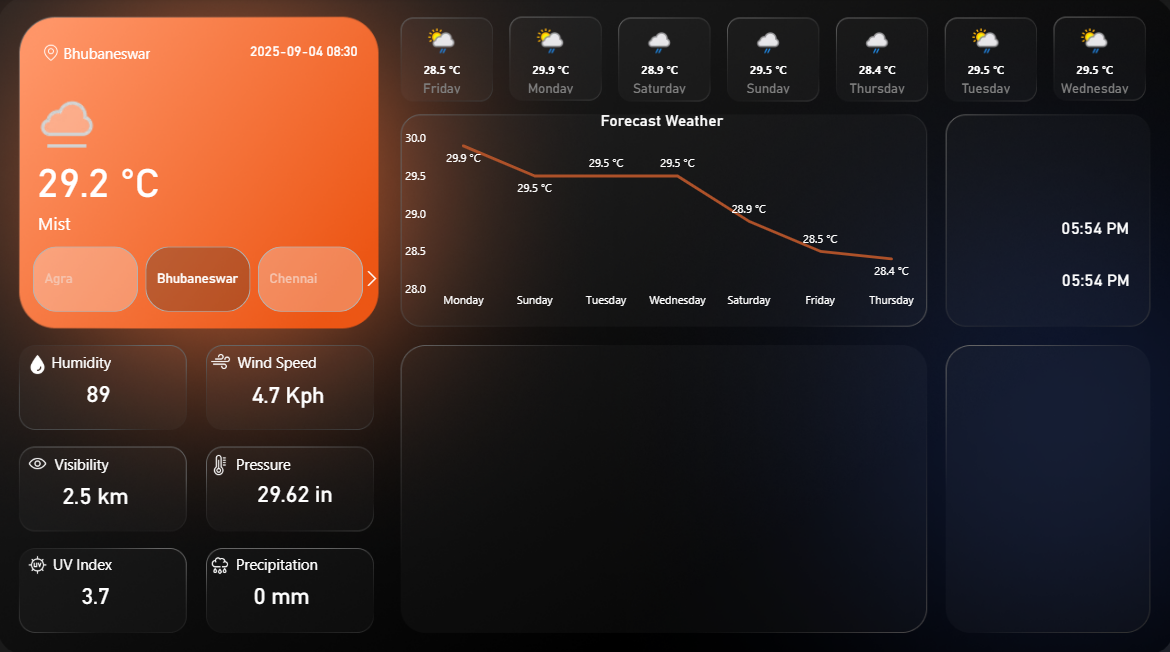

The page's visual inventory and layout, read from the dashboard file:
{"tool":"powerbi","page":{"name":"Page 1","canvas":[1280,720],"ordinal":0},"visuals":[{"type":"advancedSlicerVisual","fields":{"Values":["Locations.location.name"]},"box":[14.6,265.1,408.3,81.3],"z":0},{"type":"shape","box":[45.5,231,170,29.3],"z":1000},{"type":"shape","box":[73.2,45.5,146.4,29.3],"z":2000},{"type":"image","box":[45.5,39,27.7,42.3],"z":3000},{"type":"cardVisual","fields":{"Data":["Min(Current.current.condition.icon)"]},"box":[19.5,74.8,107.4,99.2],"z":4000},{"type":"shape","box":[60.2,380.6,188.7,29.3],"z":5000},{"type":"shape","box":[261.9,380.6,188.7,29.3],"z":6000},{"type":"shape","box":[261,492,188.7,29.3],"z":7000},{"type":"shape","box":[63.4,484.7,183.8,42.3],"z":8000},{"type":"shape","box":[61.8,600,188.7,29.3],"z":9000},{"type":"shape","box":[261,600,188.7,29.3],"z":10000},{"type":"image","box":[26,382.2,37.4,32.5],"z":11000},{"type":"image","box":[224.5,379,37.4,32.5],"z":12000},{"type":"image","box":[26,489.6,37.4,32.5],"z":13000},{"type":"image","box":[26,600,37.4,30.9],"z":14000},{"type":"image","box":[224,492,37,32],"z":15000},{"type":"image","box":[224,600,37,32],"z":16000},{"type":"card","fields":{"Values":["_Measures.windspeed"]},"box":[261.9,382.2,109,97.6],"z":17000},{"type":"card","fields":{"Values":["_Measures.pressure"]},"box":[261.9,489.6,123.6,97.6],"z":18000},{"type":"card","fields":{"Values":["_Measures.vis"]},"box":[60.2,491.2,94.3,97.6],"z":19000},{"type":"card","fields":{"Values":["Min(Current.current.uv)"]},"box":[60.2,600.2,94.3,97.6],"z":20000},{"type":"card","fields":{"Values":["_Measures.precip"]},"box":[261.9,600.2,94.3,97.6],"z":21000},{"type":"card","fields":{"Values":["Min(Current.current.humidity)"]},"box":[63.4,380.6,94.3,97.6],"z":22000},{"type":"advancedSlicerVisual","fields":{"Values":["Forecast_Day.Day_Name"]},"box":[422.9,11.4,832.8,99.2],"z":23000},{"type":"card","fields":{"Values":["_Measures.current_temp_c"]},"box":[27.7,148,165.9,97.6],"z":24000},{"type":"card","fields":{"Values":["_Measures.Last_Updated"]},"box":[250.5,11.4,165.9,97.6],"z":25000},{"type":"lineChart","title":"Forecast Weather","fields":{"Y":["Sum(Forecast_Day.forecast.forecastday.day.avgtemp_c)"],"Category":["Forecast_Day.Day_Name"]},"box":[436.9,123.9,569.1,222.6],"z":26000},{"type":"card","fields":{"Values":["Min(Forecast_Day.Sunset_Date)"]},"box":[1127.6,225.9,128.9,50.2],"z":27000},{"type":"card","fields":{"Values":["Min(Forecast_Day.Sunset_Date)"]},"box":[1127.2,281.4,130.1,50.4],"z":28000}]}

Visuals, with their boxes in screenshot pixels (x1, y1, x2, y2), scaled from the page's 1280x720 canvas onto the 1170x652 screenshot:
advancedSlicerVisual - Locations.location.name: x1=13 y1=240 x2=387 y2=314
shape: x1=42 y1=209 x2=197 y2=236
shape: x1=67 y1=41 x2=201 y2=68
image: x1=42 y1=35 x2=67 y2=74
cardVisual - Min(Current.current.condition.icon): x1=18 y1=68 x2=116 y2=158
shape: x1=55 y1=345 x2=228 y2=371
shape: x1=239 y1=345 x2=412 y2=371
shape: x1=239 y1=446 x2=411 y2=472
shape: x1=58 y1=439 x2=226 y2=477
shape: x1=56 y1=543 x2=229 y2=570
shape: x1=239 y1=543 x2=411 y2=570
image: x1=24 y1=346 x2=58 y2=376
image: x1=205 y1=343 x2=239 y2=373
image: x1=24 y1=443 x2=58 y2=473
image: x1=24 y1=543 x2=58 y2=571
image: x1=205 y1=446 x2=239 y2=475
image: x1=205 y1=543 x2=239 y2=572
card - _Measures.windspeed: x1=239 y1=346 x2=339 y2=434
card - _Measures.pressure: x1=239 y1=443 x2=352 y2=532
card - _Measures.vis: x1=55 y1=445 x2=141 y2=533
card - Min(Current.current.uv): x1=55 y1=544 x2=141 y2=632
card - _Measures.precip: x1=239 y1=544 x2=326 y2=632
card - Min(Current.current.humidity): x1=58 y1=345 x2=144 y2=433
advancedSlicerVisual - Forecast_Day.Day_Name: x1=387 y1=10 x2=1148 y2=100
card - _Measures.current_temp_c: x1=25 y1=134 x2=177 y2=222
card - _Measures.Last_Updated: x1=229 y1=10 x2=381 y2=99
"Forecast Weather" lineChart: x1=399 y1=112 x2=920 y2=314
card - Min(Forecast_Day.Sunset_Date): x1=1031 y1=205 x2=1149 y2=250
card - Min(Forecast_Day.Sunset_Date): x1=1030 y1=255 x2=1149 y2=300
